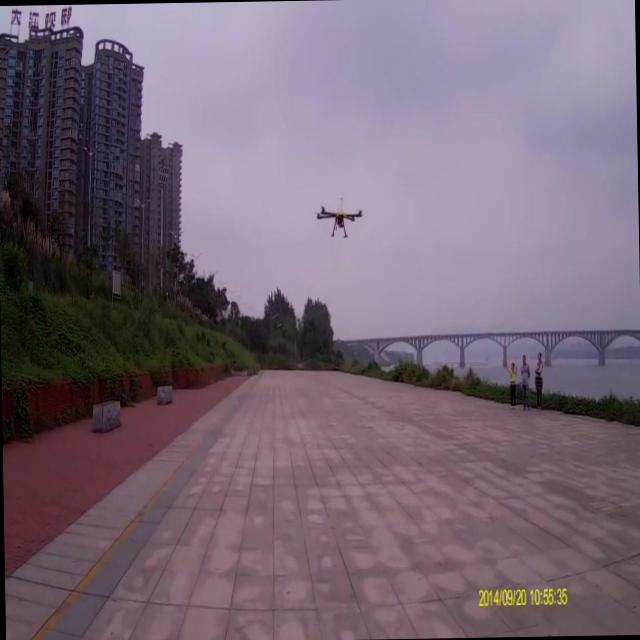drone: (313, 194, 365, 240)
